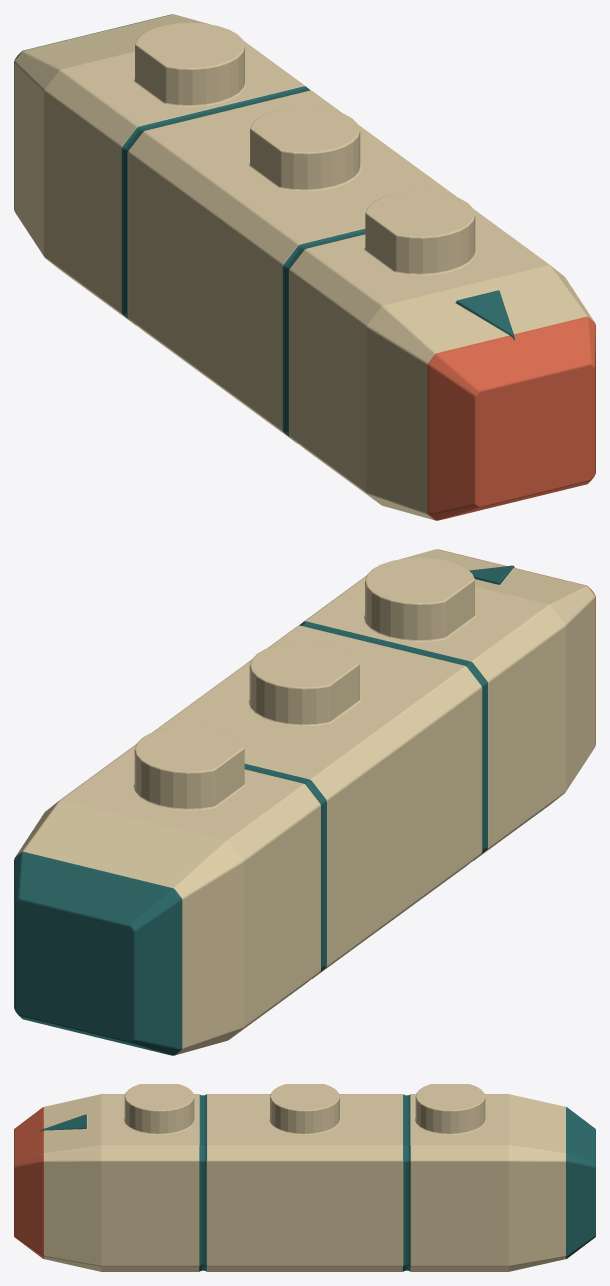
File: pontoon-lod-0.glb
3 renders of one model, top to bottom at view 1: azimuth 30°, elevation 25°; view 2: azimuth 150°, elevation 25°; view 3: azimuth 270°, elevation 25°, orthographic. The views are drawn at different scales.
Parts seen in each view (by area): view 1: pontoon_shell_lod0; view 2: pontoon_shell_lod0; view 3: pontoon_shell_lod0.
Boxes of the visible parts, x1,y1,x2,y2 form: pontoon_shell_lod0: (14, 14, 595, 520); pontoon_shell_lod0: (14, 549, 595, 1055); pontoon_shell_lod0: (14, 1084, 595, 1271).
Bounding box in the file's own units: 1 × 1.14 × 4.
1 material, 1 textured.
